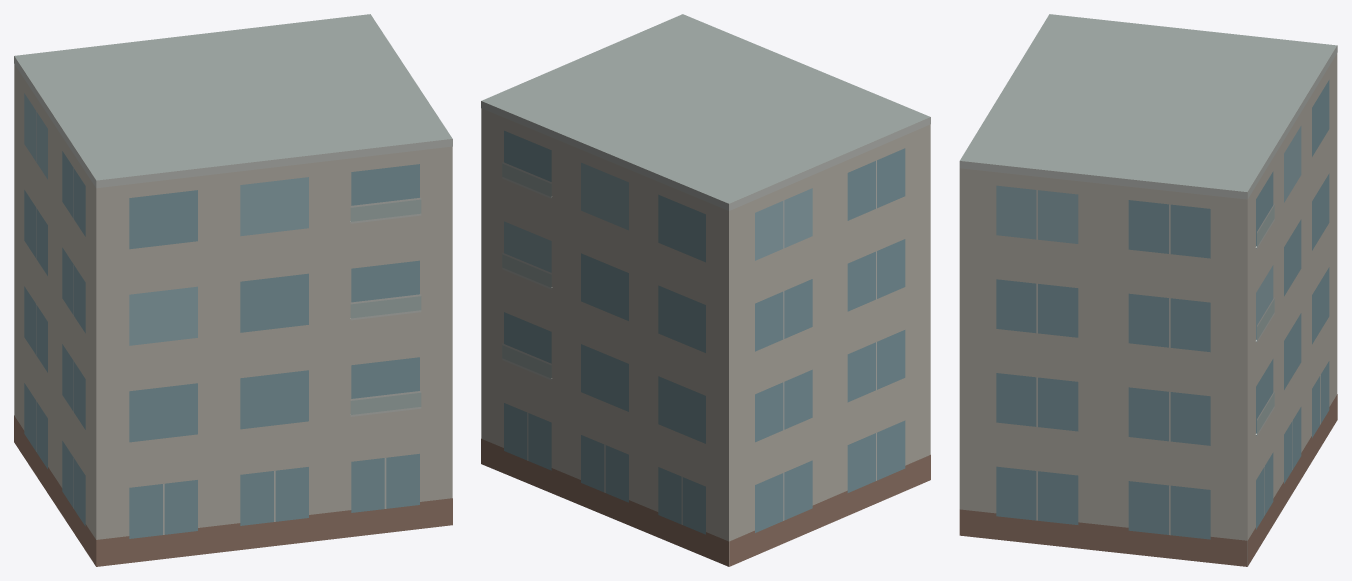
File: residential-05d07481-9aba-4da2-a8b7-392f4e2dc2ab.glb
3 views of the same model, side by side, from view 1: azimuth 30°, elevation 25°; view 2: azimuth 150°, elevation 25°; view 3: azimuth 270°, elevation 25° (orthographic). The views are drawn at different scales.
Visible parts, largest first — view 1: residential-05d07481-9aba-4da2-a8b7-392f4e2dc2ab.tmp; view 2: residential-05d07481-9aba-4da2-a8b7-392f4e2dc2ab.tmp; view 3: residential-05d07481-9aba-4da2-a8b7-392f4e2dc2ab.tmp.
Part boxes in pixels (x1,y1,x2,y2): residential-05d07481-9aba-4da2-a8b7-392f4e2dc2ab.tmp: (14, 14, 452, 566); residential-05d07481-9aba-4da2-a8b7-392f4e2dc2ab.tmp: (481, 14, 930, 566); residential-05d07481-9aba-4da2-a8b7-392f4e2dc2ab.tmp: (959, 14, 1337, 566).
Size of the model in its own units: 12.45 by 12.2 by 11.15.
